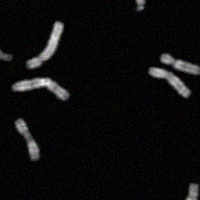chromosome: (25, 22, 62, 67), (11, 77, 68, 102), (149, 67, 190, 96), (15, 118, 39, 159), (162, 52, 200, 75), (184, 183, 200, 200), (132, 0, 145, 11), (0, 47, 10, 60)
